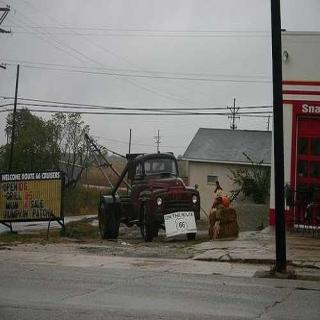Towing_truck: (83, 128, 202, 243)
